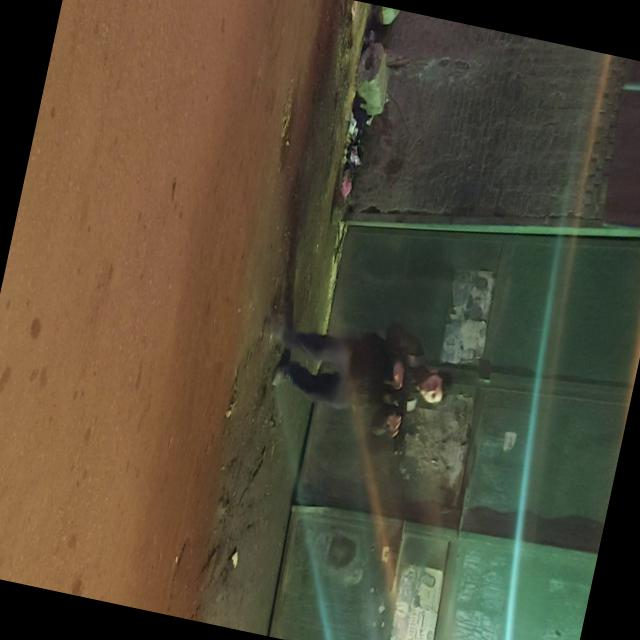long weapon: (356, 342, 434, 474)
